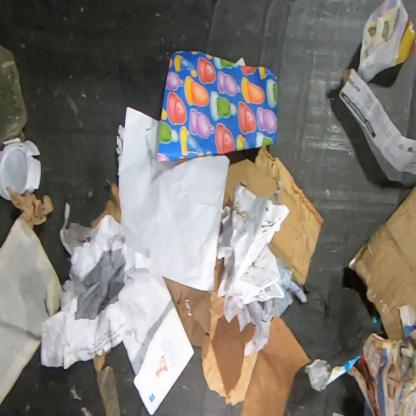cardboard: (224, 146, 324, 286), (348, 185, 415, 342), (202, 258, 260, 406), (238, 316, 312, 415), (163, 278, 211, 359), (90, 181, 121, 228)
rigid_plastic: (0, 138, 42, 201)
soft_plastic: (0, 45, 29, 149)
